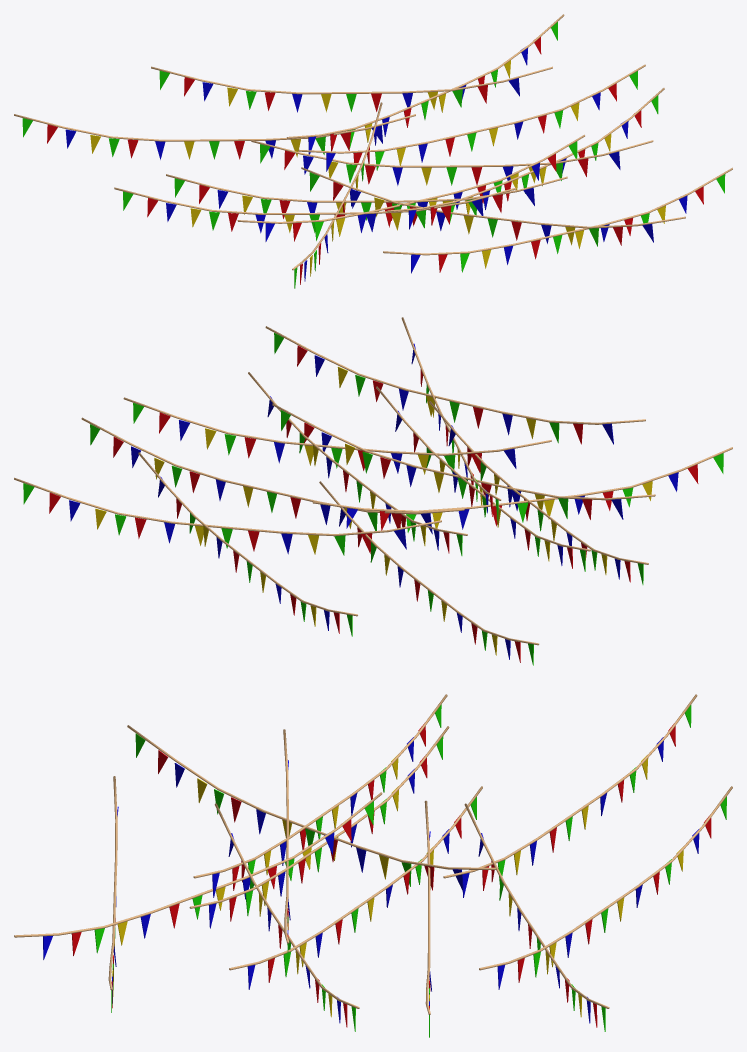
Rendered from slingers.gltf.
3 renders of one model, top to bottom at view 1: azimuth 30°, elevation 25°; view 2: azimuth 150°, elevation 25°; view 3: azimuth 270°, elevation 25°, orthographic. The views are drawn at different scales.
Parts seen in each view (by area): view 1: Circle.007, Circle.009, Circle.006, Circle.004, Circle.012, Circle.003, Circle.011, Circle.010, Circle.001, Circle.008, Circle.005, Circle.002; view 2: Circle.008, Circle.005, Circle.011, Circle.001, Circle.002, Circle.003, Circle.007, Circle.009, Circle.006, Circle.004, Circle.010, Circle.012; view 3: Circle.002, Circle.012, Circle.007, Circle.009, Circle.006, Circle.004, Circle.010, Circle.008, Circle.005, Circle.011, Circle.001, Circle.003.
Part boxes in pixels (left/top/right/bottom): Circle.007: left=151, top=66, right=552, bottom=112; Circle.009: left=14, top=114, right=415, bottom=159; Circle.006: left=251, top=140, right=653, bottom=185; Circle.004: left=114, top=187, right=516, bottom=233; Circle.012: left=301, top=167, right=685, bottom=246; Circle.003: left=298, top=64, right=645, bottom=171; Circle.011: left=383, top=167, right=732, bottom=273; Circle.010: left=166, top=174, right=567, bottom=220; Circle.001: left=237, top=134, right=584, bottom=241; Circle.008: left=286, top=14, right=564, bottom=154; Circle.005: left=387, top=88, right=664, bottom=229; Circle.002: left=292, top=102, right=382, bottom=288; Circle.008: left=14, top=477, right=441, bottom=555; Circle.005: left=123, top=397, right=551, bottom=474; Circle.011: left=265, top=326, right=645, bottom=444; Circle.001: left=272, top=403, right=655, bottom=519; Circle.002: left=312, top=447, right=732, bottom=532; Circle.003: left=81, top=417, right=464, bottom=534; Circle.007: left=138, top=452, right=357, bottom=636; Circle.009: left=319, top=481, right=539, bottom=665; Circle.006: left=248, top=372, right=467, bottom=555; Circle.004: left=429, top=401, right=648, bottom=584; Circle.010: left=376, top=386, right=590, bottom=571; Circle.012: left=401, top=317, right=501, bottom=520; Circle.002: left=127, top=725, right=496, bottom=890; Circle.012: left=14, top=792, right=382, bottom=959; Circle.007: left=479, top=786, right=732, bottom=989; Circle.009: left=443, top=694, right=697, bottom=897; Circle.006: left=229, top=786, right=482, bottom=989; Circle.004: left=193, top=694, right=447, bottom=897; Circle.010: left=189, top=726, right=449, bottom=928; Circle.008: left=464, top=803, right=609, bottom=1031; Circle.005: left=214, top=803, right=359, bottom=1031; Circle.011: left=108, top=776, right=118, bottom=1012; Circle.001: left=283, top=729, right=290, bottom=965; Circle.003: left=424, top=800, right=431, bottom=1037.
Size of the model in its own units: 38.85 by 3.23 by 37.03.
